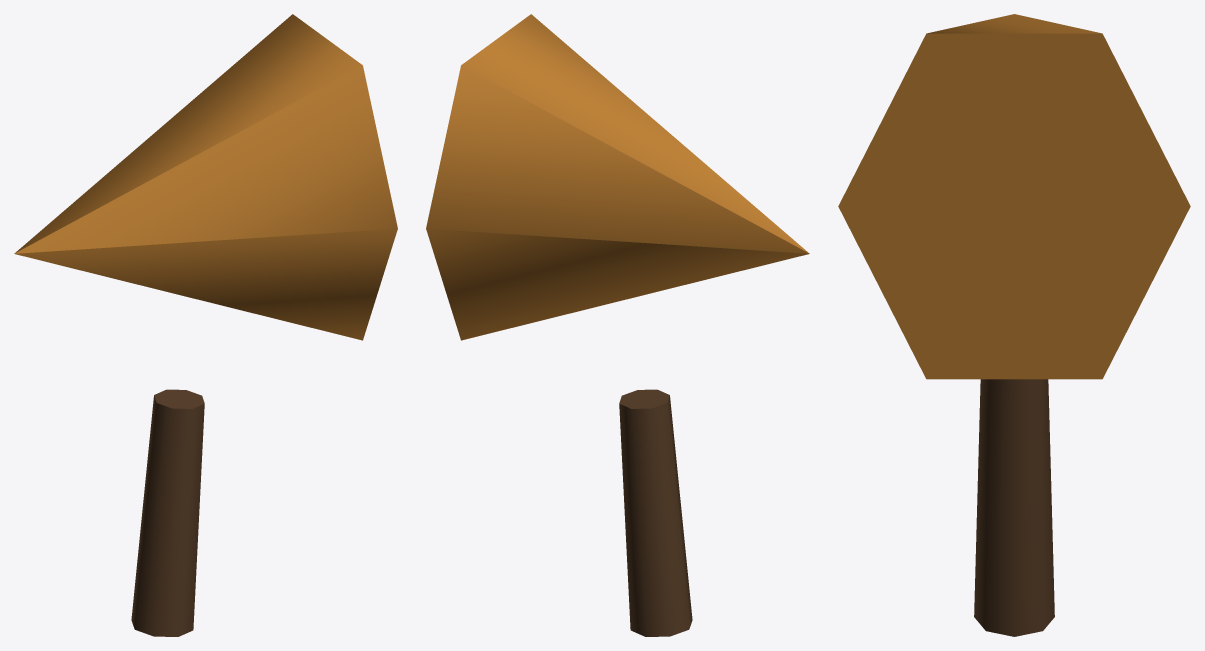
File: wpn_m_05.glb
3 renders of one model, left to right at view 1: azimuth 30°, elevation 25°; view 2: azimuth 150°, elevation 25°; view 3: azimuth 270°, elevation 25°, orthographic. The views are drawn at different scales.
Parts seen in each view (by area): view 1: heavy_head, grip; view 2: heavy_head, grip; view 3: heavy_head, grip.
Boxes of the visible parts, x1,y1,x2,y2 form: heavy_head: (14,14,397,340); grip: (131,389,204,636); heavy_head: (426,14,809,340); grip: (619,389,692,636); heavy_head: (838,14,1190,379); grip: (974,379,1054,636).
Size of the model in its own units: 0.62 by 1.03 by 0.48.
